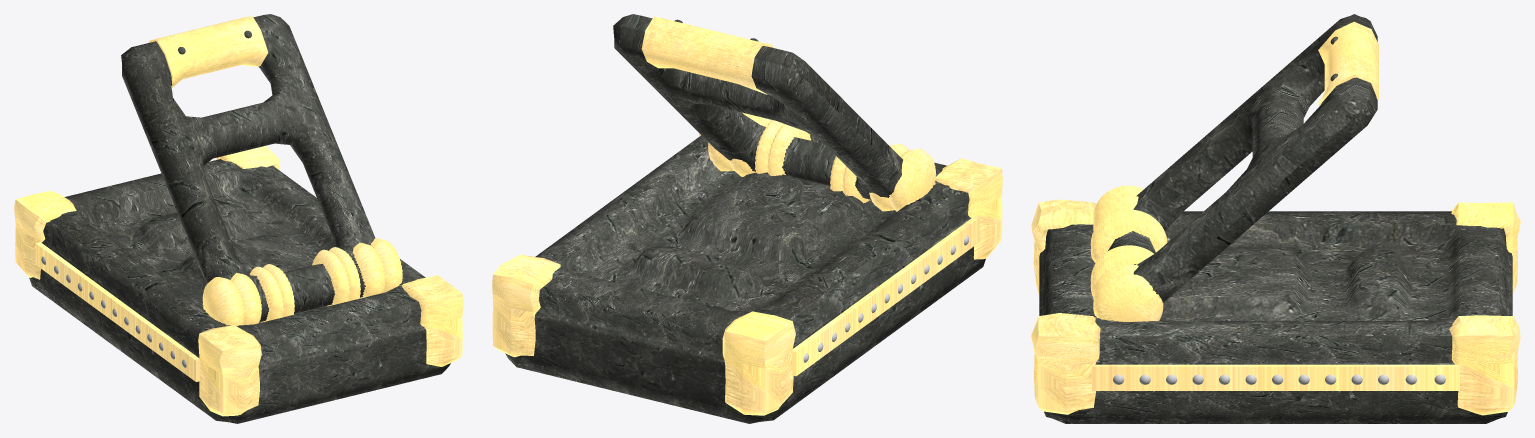
File: Model_Lever1.FBX
The picture shows the model from 3 angles, left to right: view 1: azimuth 30°, elevation 25°; view 2: azimuth 150°, elevation 25°; view 3: azimuth 270°, elevation 25°; orthographic projection. The views are drawn at different scales.
Parts seen in each view (by area): view 1: Box001, spak, shellmetalthing, detailonhandler, lever, Cylinder008, Cylinder011, Cylinder016, Cylinder009, Cylinder010, Cylinder014, Cylinder015 (+1 smaller); view 2: Box001, spak, shellmetalthing, detailonhandler, lever, Cylinder008, Cylinder016, Cylinder015; view 3: Box001, spak, shellmetalthing, lever, detailonhandler, Cylinder010, Cylinder013, Cylinder015, Cylinder009, Cylinder014, Cylinder008.
Boxes of the visible parts, left/top/right/bottom form: Box001: left=29, top=159, right=450, bottom=423; spak: left=121, top=14, right=375, bottom=322; shellmetalthing: left=14, top=145, right=463, bottom=416; detailonhandler: left=148, top=16, right=268, bottom=87; lever: left=35, top=242, right=199, bottom=381; Cylinder008: left=202, top=277, right=244, bottom=325; Cylinder011: left=352, top=242, right=385, bottom=298; Cylinder016: left=312, top=249, right=349, bottom=306; Cylinder009: left=230, top=272, right=261, bottom=325; Cylinder010: left=371, top=238, right=402, bottom=292; Cylinder014: left=249, top=266, right=283, bottom=322; Cylinder015: left=329, top=247, right=360, bottom=301; Box001: left=505, top=134, right=985, bottom=423; spak: left=613, top=14, right=902, bottom=199; shellmetalthing: left=492, top=133, right=1002, bottom=415; detailonhandler: left=641, top=16, right=773, bottom=94; lever: left=792, top=217, right=979, bottom=376; Cylinder008: left=889, top=148, right=935, bottom=211; Cylinder016: left=767, top=124, right=811, bottom=175; Cylinder015: left=755, top=120, right=783, bottom=173; Box001: left=1039, top=211, right=1512, bottom=423; spak: left=1108, top=14, right=1377, bottom=302; shellmetalthing: left=1031, top=199, right=1520, bottom=415; lever: left=1092, top=364, right=1459, bottom=390; detailonhandler: left=1318, top=21, right=1378, bottom=105; Cylinder010: left=1093, top=273, right=1163, bottom=321; Cylinder013: left=1090, top=215, right=1166, bottom=262; Cylinder015: left=1090, top=251, right=1149, bottom=296; Cylinder009: left=1093, top=195, right=1138, bottom=230; Cylinder014: left=1090, top=209, right=1167, bottom=245; Cylinder008: left=1093, top=185, right=1143, bottom=221.
Size of the model in its own units: 88.08 by 93.47 by 131.
Materials: 2 (2 with a texture image).
